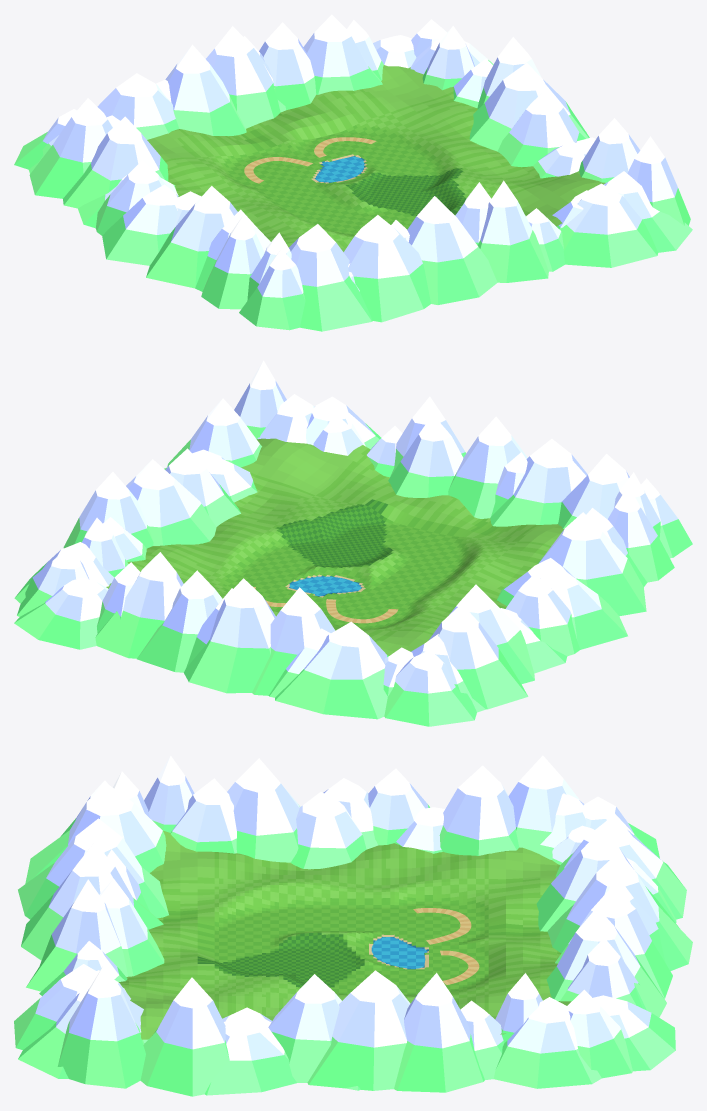
File: course_ground.glb
The picture shows the model from 3 angles, top to bottom: view 1: azimuth 30°, elevation 25°; view 2: azimuth 150°, elevation 25°; view 3: azimuth 270°, elevation 25°; orthographic projection. The views are drawn at different scales.
Visible parts, largest first — view 1: course_ground; view 2: course_ground; view 3: course_ground.
Boxes of the visible parts, <box> form: course_ground: <box>14,14,692,331</box>; course_ground: <box>14,360,692,726</box>; course_ground: <box>14,755,692,1096</box>.
Bounding box in the file's own units: 798 × 134 × 793.
3 materials, 3 textured.
